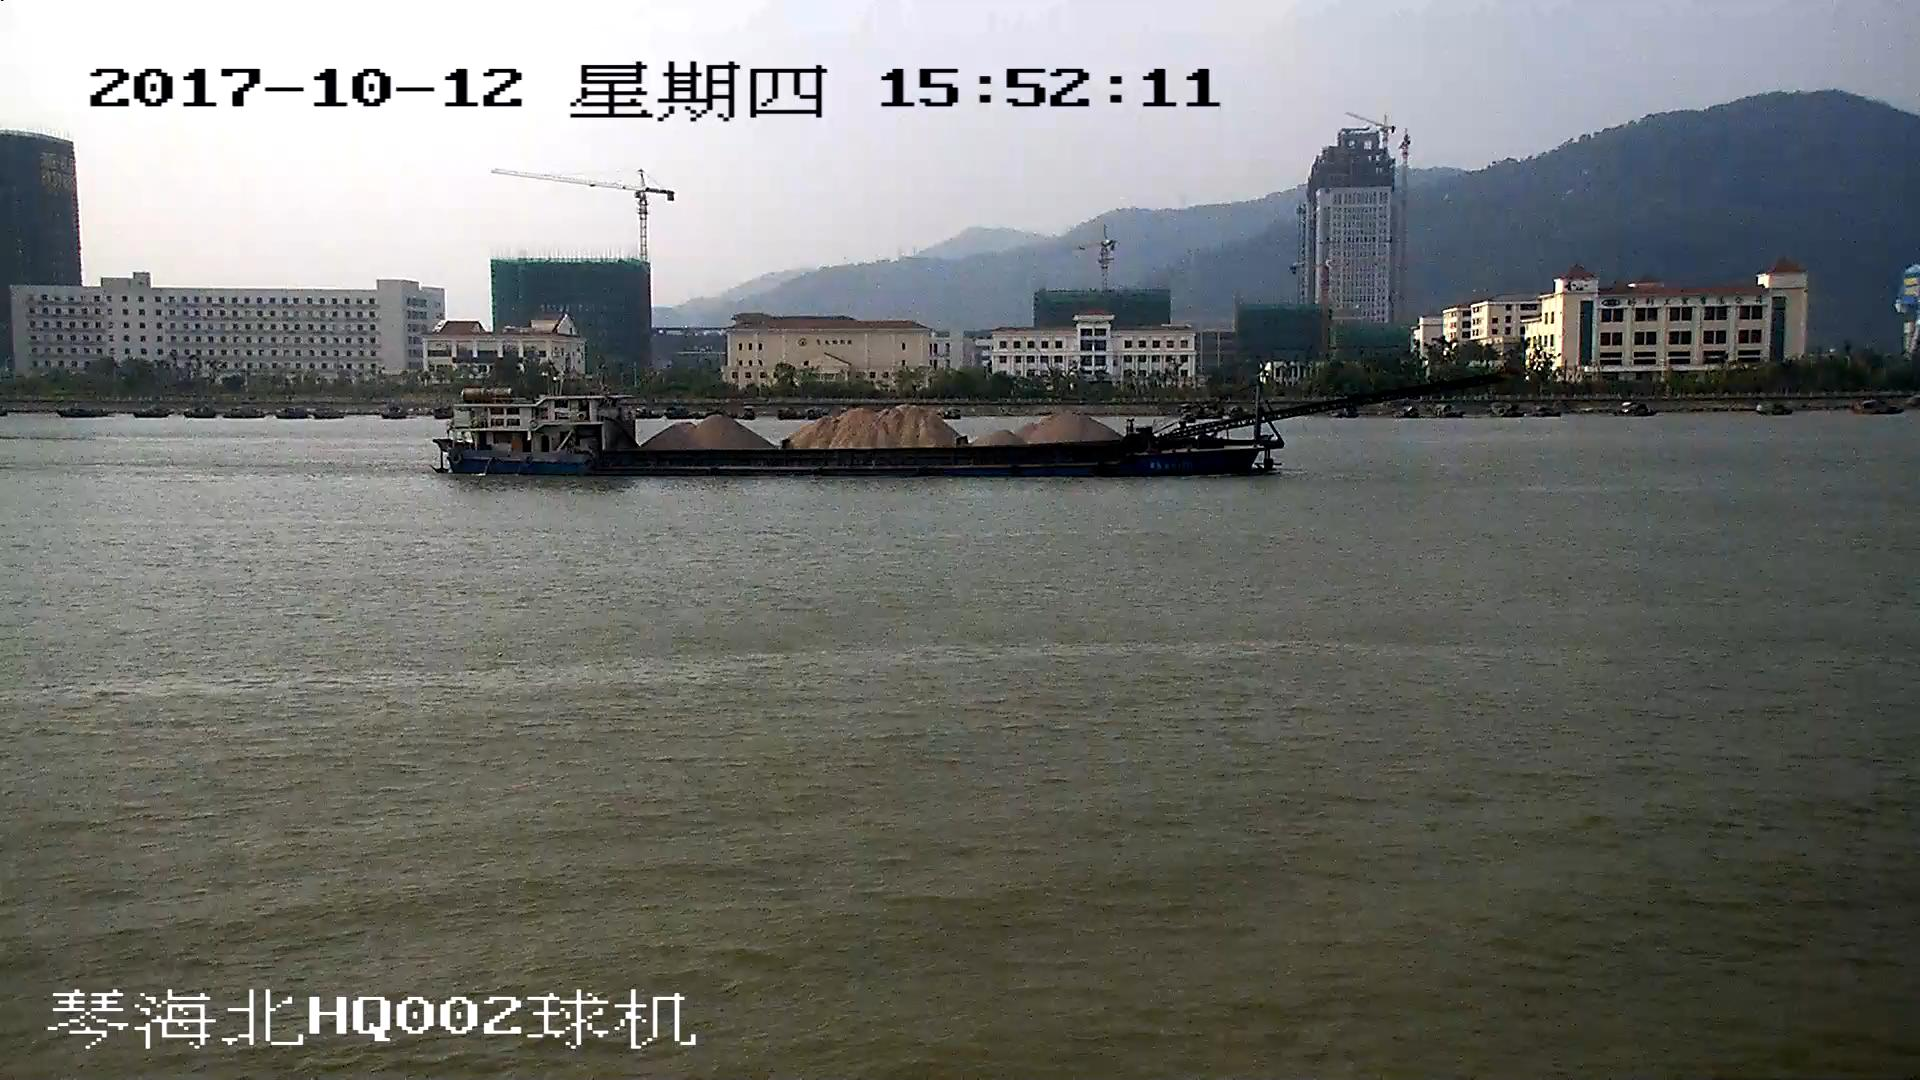ore carrier: (434, 375, 1491, 478)
